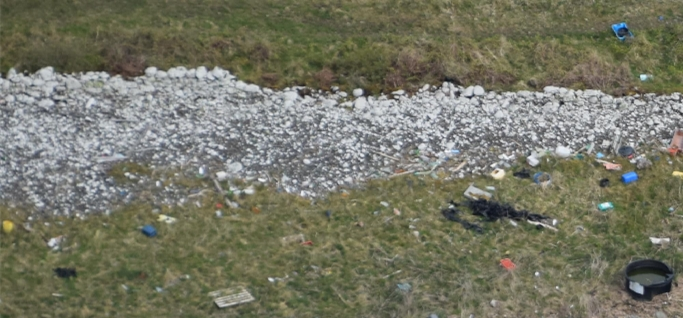scattered_barrel: (134, 197, 257, 313), (2, 204, 90, 294)
together_barrel: (432, 127, 683, 302)
white_in_green: (587, 1, 653, 58)
